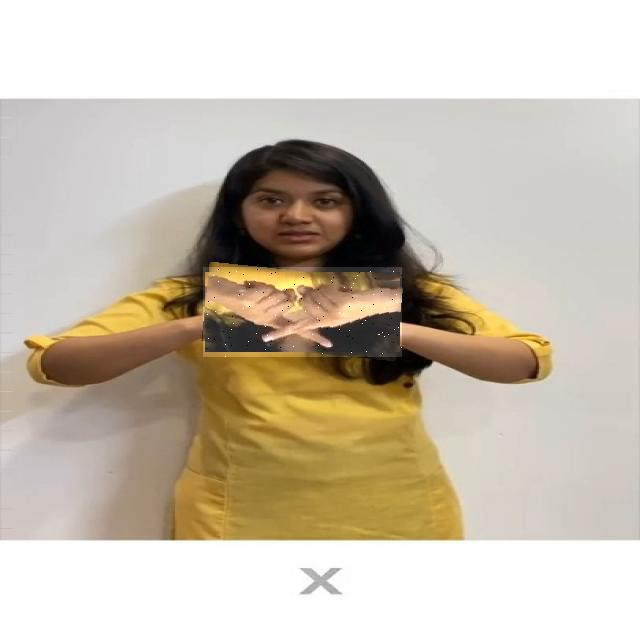X: (203, 267, 402, 357)
